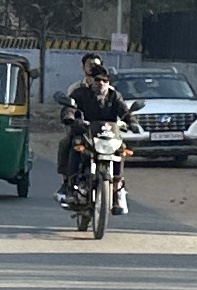BikeWithRider: (49, 50, 147, 242)
NoHelmet: (87, 65, 118, 97), (79, 51, 105, 81)
